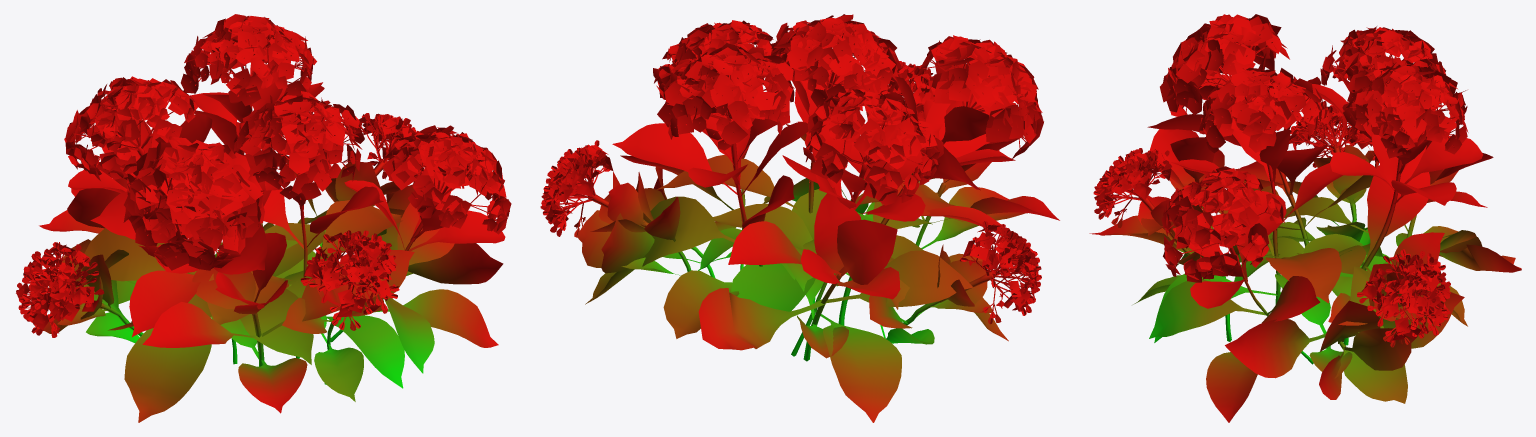
Rendered from Var9_LOD1.fbx.
3 renders of one model, left to right at view 1: azimuth 30°, elevation 25°; view 2: azimuth 150°, elevation 25°; view 3: azimuth 270°, elevation 25°, orthographic. The views are drawn at different scales.
Parts seen in each view (by area): view 1: _mhd9_Var9_LOD1; view 2: _mhd9_Var9_LOD1; view 3: _mhd9_Var9_LOD1.
Part boxes in pixels (bbox=[...]): _mhd9_Var9_LOD1: bbox=[16, 14, 511, 422]; _mhd9_Var9_LOD1: bbox=[540, 14, 1059, 422]; _mhd9_Var9_LOD1: bbox=[1089, 14, 1521, 422].
Bounding box in the file's own units: 54.42 × 35.77 × 48.18.
